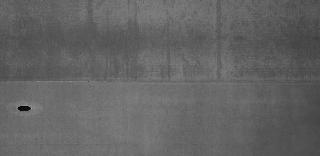punching hole: (13, 102, 34, 112)
welding line: (1, 76, 319, 86)
